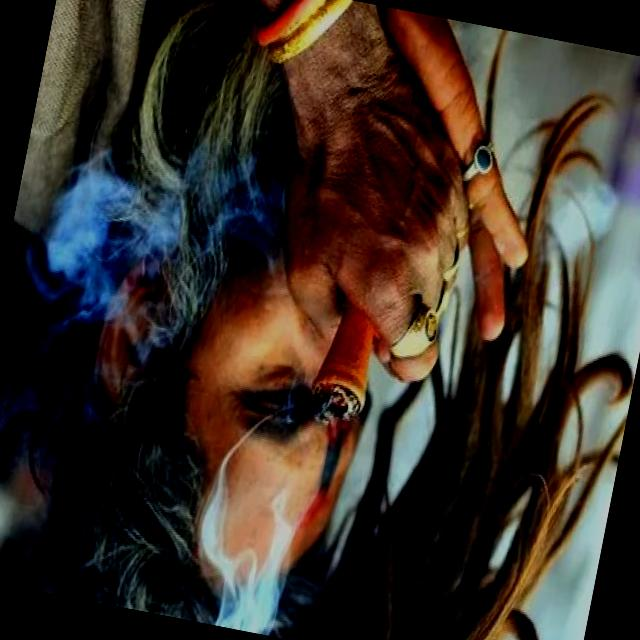smoke: (289, 285, 388, 436)
